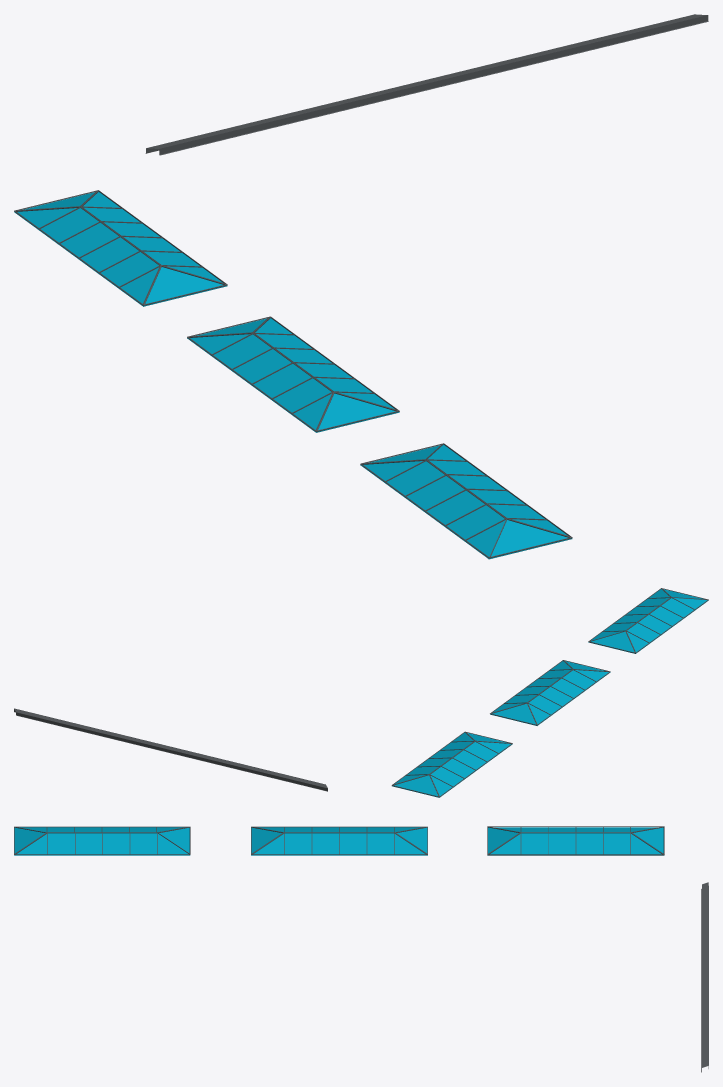
3 renders of one model, top to bottom at view 1: azimuth 30°, elevation 25°; view 2: azimuth 150°, elevation 25°; view 3: azimuth 270°, elevation 25°, orthographic. The views are drawn at different scales.
Visible parts, largest first — view 1: 3XkA0Nz3D6ZxXRB6h$DmUy, 2UMN_OQKrAshZl3dHPuZNE, 2UMN_OQKrAshZl3dHPuZwu, 2UMN_OQKrAshZl3dHPuZMq, 2UMN_OQKrAshZl3dHPuZGy, 2UMN_OQKrAshZl3dHPuZGW, 2UMN_OQKrAshZl3dHPuZG_, 2UMN_OQKrAshZl3dHPuZGY, 2UMN_OQKrAshZl3dHPuZAb, 2UMN_OQKrAshZl3dHPuZMc, 2UMN_OQKrAshZl3dHPuZEG, 2UMN_OQKrAshZl3dHPuZ9n (+4 smaller); view 2: 3XkA0Nz3D6ZxXRB6h$DmUy, 2UMN_OQKrAshZl3dHPuZNC, 2UMN_OQKrAshZl3dHPuZws, 2UMN_OQKrAshZl3dHPuZMo; view 3: 3XkA0Nz3D6ZxXRB6h$DmUy, 2UMN_OQKrAshZl3dHPuZMw, 2UMN_OQKrAshZl3dHPuZGs, 2UMN_OQKrAshZl3dHPuZ1u, 2UMN_OQKrAshZl3dHPuZGo, 2UMN_OQKrAshZl3dHPuZGu, 2UMN_OQKrAshZl3dHPuZ7R, 2UMN_OQKrAshZl3dHPuZ0U, 2UMN_OQKrAshZl3dHPuZ2m, 2UMN_OQKrAshZl3dHPuZMu, 2UMN_OQKrAshZl3dHPuZMy, 2UMN_OQKrAshZl3dHPuZM_ (+11 smaller).
Part boxes in pixels (bbox=[...]): 3XkA0Nz3D6ZxXRB6h$DmUy: bbox=[145, 14, 708, 155]; 2UMN_OQKrAshZl3dHPuZNE: bbox=[143, 267, 226, 306]; 2UMN_OQKrAshZl3dHPuZwu: bbox=[488, 520, 571, 559]; 2UMN_OQKrAshZl3dHPuZMq: bbox=[316, 393, 398, 432]; 2UMN_OQKrAshZl3dHPuZGy: bbox=[39, 208, 98, 244]; 2UMN_OQKrAshZl3dHPuZGW: bbox=[59, 222, 118, 259]; 2UMN_OQKrAshZl3dHPuZG_: bbox=[79, 237, 138, 273]; 2UMN_OQKrAshZl3dHPuZGY: bbox=[99, 252, 158, 288]; 2UMN_OQKrAshZl3dHPuZAb: bbox=[445, 505, 504, 541]; 2UMN_OQKrAshZl3dHPuZMc: bbox=[232, 349, 291, 385]; 2UMN_OQKrAshZl3dHPuZEG: bbox=[385, 461, 444, 497]; 2UMN_OQKrAshZl3dHPuZ9n: bbox=[405, 476, 464, 511]; 3XkA0Nz3D6ZxXRB6h$DmUy: bbox=[14, 708, 327, 791]; 2UMN_OQKrAshZl3dHPuZNC: bbox=[392, 775, 438, 797]; 2UMN_OQKrAshZl3dHPuZws: bbox=[588, 631, 635, 653]; 2UMN_OQKrAshZl3dHPuZMo: bbox=[490, 703, 536, 725]; 3XkA0Nz3D6ZxXRB6h$DmUy: bbox=[701, 882, 708, 1072]; 2UMN_OQKrAshZl3dHPuZMw: bbox=[339, 833, 366, 855]; 2UMN_OQKrAshZl3dHPuZGs: bbox=[548, 833, 575, 855]; 2UMN_OQKrAshZl3dHPuZ1u: bbox=[75, 833, 102, 855]; 2UMN_OQKrAshZl3dHPuZGo: bbox=[521, 833, 548, 855]; 2UMN_OQKrAshZl3dHPuZGu: bbox=[603, 833, 630, 855]; 2UMN_OQKrAshZl3dHPuZ7R: bbox=[47, 833, 75, 855]; 2UMN_OQKrAshZl3dHPuZ0U: bbox=[102, 833, 129, 855]; 2UMN_OQKrAshZl3dHPuZ2m: bbox=[130, 833, 157, 855]; 2UMN_OQKrAshZl3dHPuZMu: bbox=[284, 833, 311, 855]; 2UMN_OQKrAshZl3dHPuZMy: bbox=[312, 833, 339, 855]; 2UMN_OQKrAshZl3dHPuZM_: bbox=[367, 833, 394, 855].
Bounding box in the file's own units: 26.47 × 0.6558 × 32.19.
